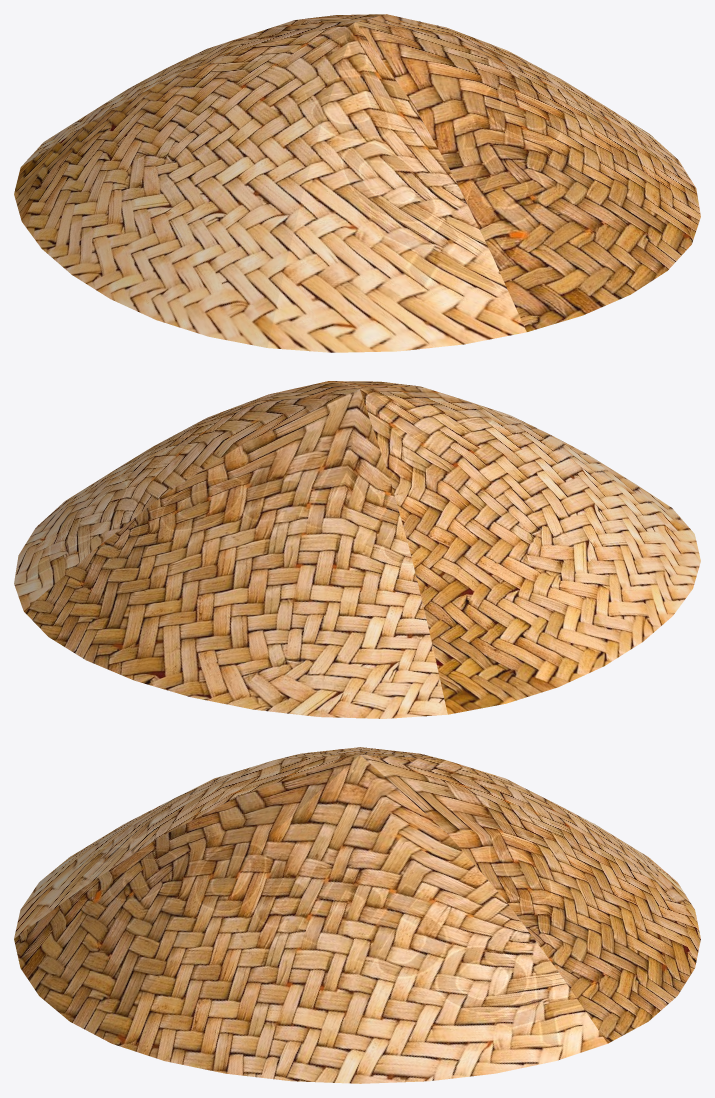
The model's file is chapeau ninja.fbx.
3 renders of one model, top to bottom at view 1: azimuth 30°, elevation 25°; view 2: azimuth 150°, elevation 25°; view 3: azimuth 270°, elevation 25°, orthographic.
Parts seen in each view (by area): view 1: Cube; view 2: Cube; view 3: Cube.
Part boxes in pixels (x1,y1,x2,y2): Cube: (14,14,700,352); Cube: (14,381,700,718); Cube: (14,747,700,1083).
Size of the model in its own units: 243 by 73.95 by 249.
